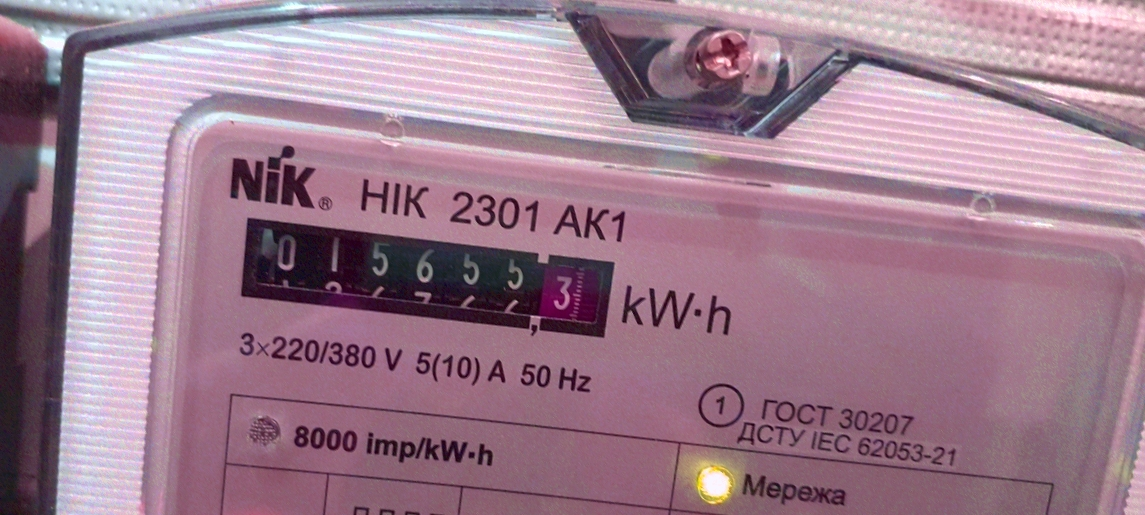0: (270, 230, 300, 274)
1: (323, 235, 345, 276)
3: (549, 274, 573, 312)
5: (364, 241, 392, 279), (457, 253, 483, 287), (504, 258, 526, 292)
6: (411, 247, 438, 285)
screen: (222, 201, 629, 355)
